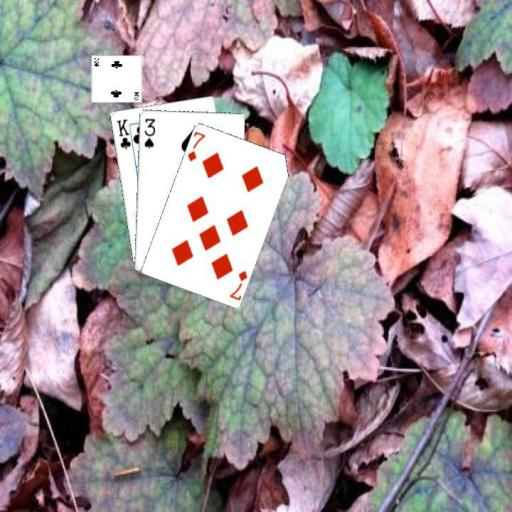3S: (141, 116, 156, 150)
7D: (184, 129, 207, 163), (226, 267, 248, 301)
KC: (114, 116, 136, 152)
